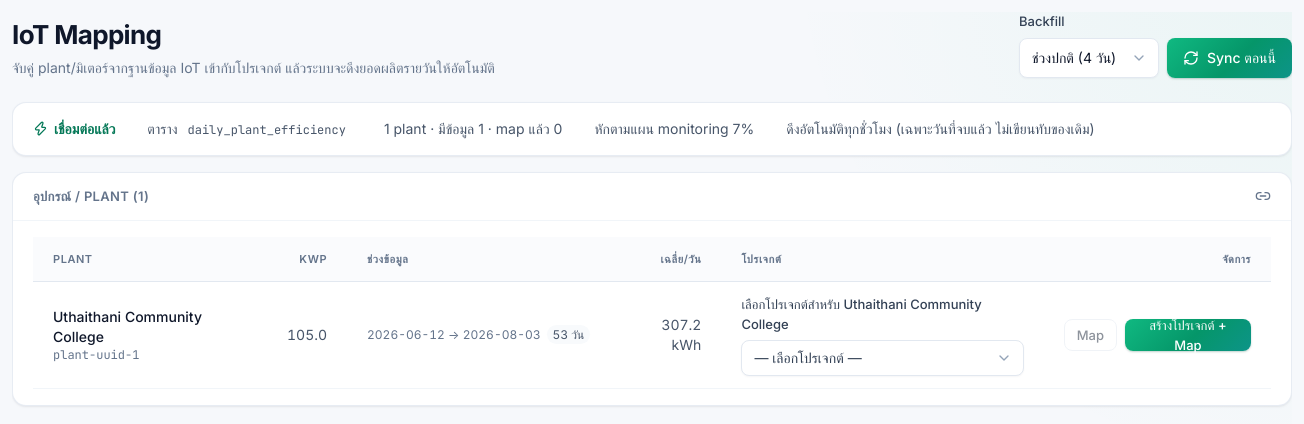
Scenario: IotMapping page › runs a manual sync and reports the stats
Expected: the text "Uthaithani Community College" is shown, [53,308,202,345]
Click the button "Sync ตอนนี้": {"x": 1230, "y": 58} [1167,38,1292,78]
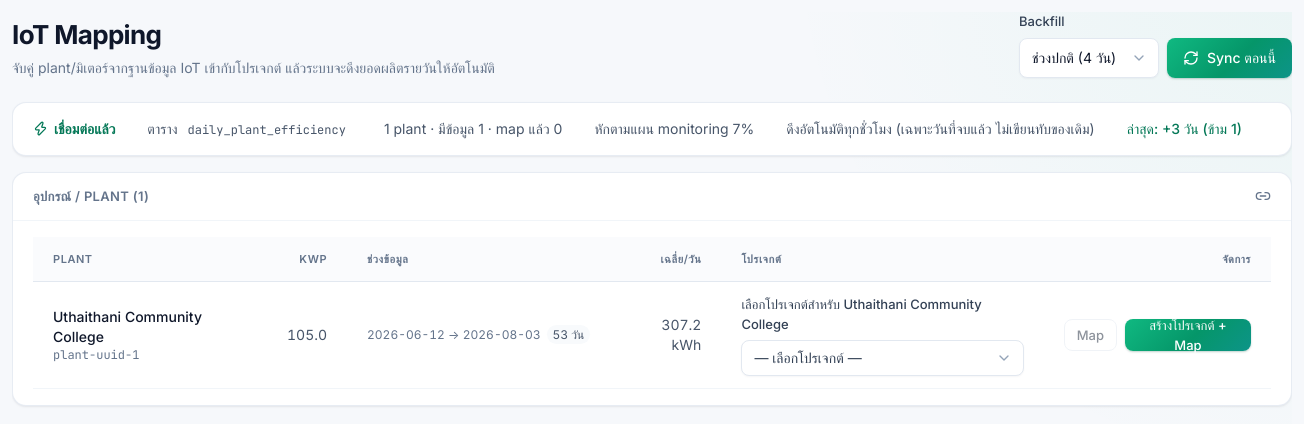
Result: the text "ล่าสุด: +3 วัน (ข้าม 1)" is shown at [1127,118,1242,138]
